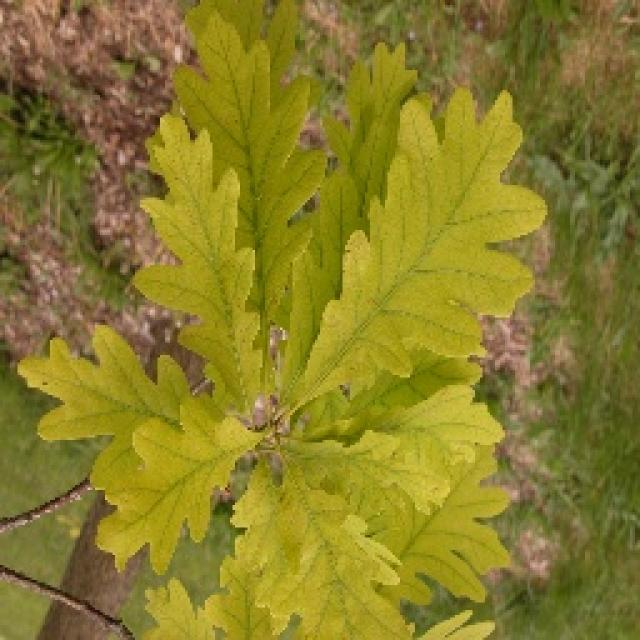Chlorosis: (40, 42, 522, 622)
